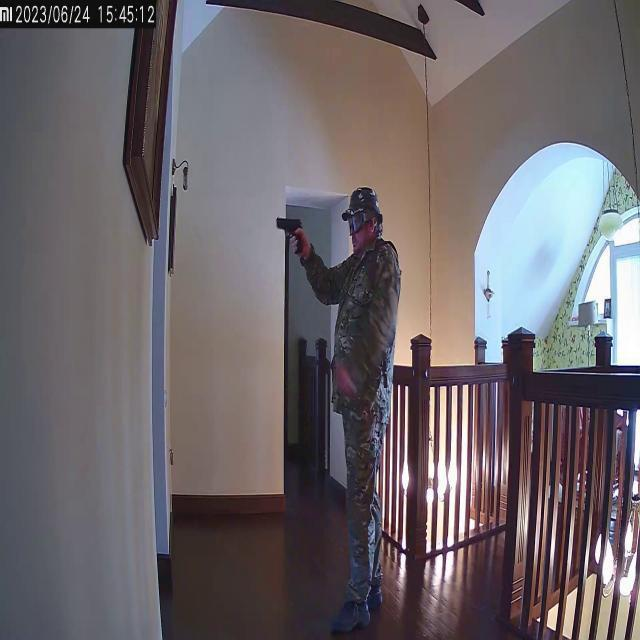pistol: (275, 210, 304, 258)
